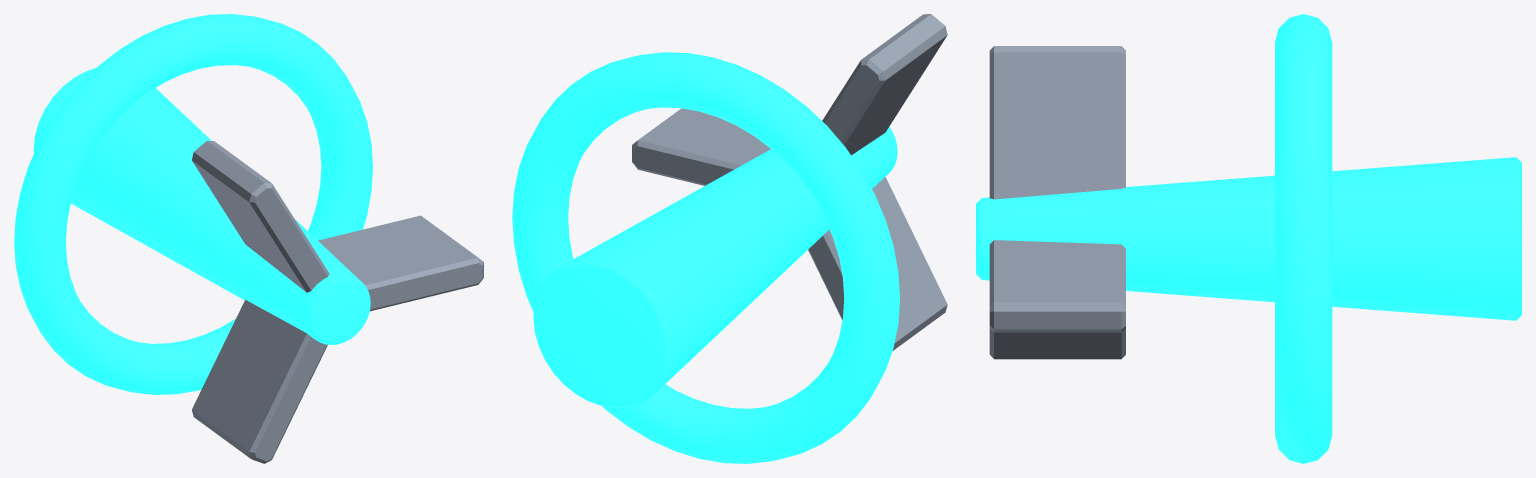
Rendered from proj_skywatch_bolt_t3.glb.
3 views of the same model, side by side, from view 1: azimuth 30°, elevation 25°; view 2: azimuth 150°, elevation 25°; view 3: azimuth 270°, elevation 25° (orthographic). The views are drawn at different scales.
Visible parts, largest first — view 1: proj_skywatch_bolt_t3_ring, proj_skywatch_bolt_t3_core, proj_skywatch_bolt_t3_fin2, proj_skywatch_bolt_t3_fin0, proj_skywatch_bolt_t3_fin1; view 2: proj_skywatch_bolt_t3_ring, proj_skywatch_bolt_t3_core, proj_skywatch_bolt_t3_fin1, proj_skywatch_bolt_t3_fin0, proj_skywatch_bolt_t3_fin2; view 3: proj_skywatch_bolt_t3_core, proj_skywatch_bolt_t3_ring, proj_skywatch_bolt_t3_fin1, proj_skywatch_bolt_t3_fin0, proj_skywatch_bolt_t3_fin2.
Boxes of the visible parts, left/top/right/bottom form: proj_skywatch_bolt_t3_ring: left=14, top=14, right=372, bottom=394; proj_skywatch_bolt_t3_core: left=33, top=68, right=370, bottom=344; proj_skywatch_bolt_t3_fin2: left=192, top=300, right=327, bottom=463; proj_skywatch_bolt_t3_fin0: left=318, top=215, right=483, bottom=311; proj_skywatch_bolt_t3_fin1: left=192, top=141, right=329, bottom=292; proj_skywatch_bolt_t3_ring: left=512, top=52, right=899, bottom=463; proj_skywatch_bolt_t3_core: left=533, top=127, right=897, bottom=408; proj_skywatch_bolt_t3_fin1: left=822, top=14, right=947, bottom=155; proj_skywatch_bolt_t3_fin0: left=632, top=108, right=770, bottom=185; proj_skywatch_bolt_t3_fin2: left=808, top=176, right=947, bottom=350; proj_skywatch_bolt_t3_core: left=976, top=157, right=1521, bottom=320; proj_skywatch_bolt_t3_ring: left=1275, top=14, right=1332, bottom=463; proj_skywatch_bolt_t3_fin1: left=989, top=46, right=1125, bottom=199; proj_skywatch_bolt_t3_fin0: left=989, top=240, right=1125, bottom=332; proj_skywatch_bolt_t3_fin2: left=989, top=328, right=1125, bottom=359.
Size of what is drawn, in the model's own units: 0.33 by 0.33 by 0.4.
